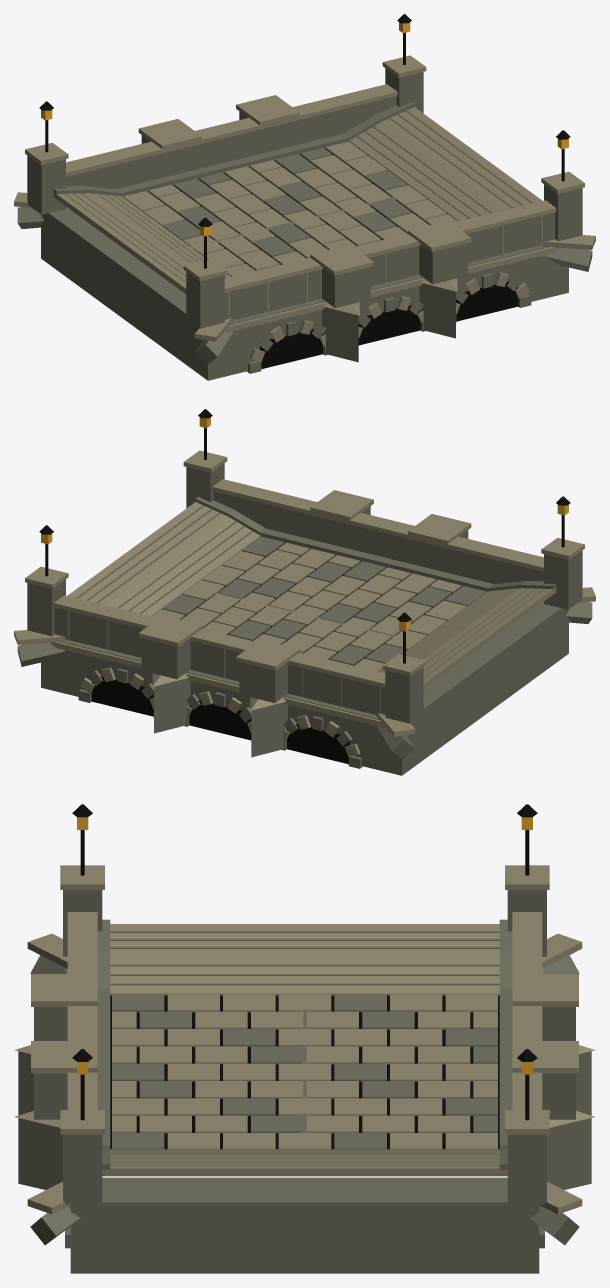
File: ponte-central-de-pedra-v01.glb
3 renders of one model, top to bottom at view 1: azimuth 30°, elevation 25°; view 2: azimuth 150°, elevation 25°; view 3: azimuth 270°, elevation 25°, orthographic. The views are drawn at different scales.
Parts seen in each view (by area): view 1: Ponte central de pedra; view 2: Ponte central de pedra; view 3: Ponte central de pedra.
Part boxes in pixels (x1=…): Ponte central de pedra: x1=14, y1=14, x2=595, y2=380; Ponte central de pedra: x1=14, y1=409, x2=595, y2=775; Ponte central de pedra: x1=14, y1=804, x2=595, y2=1273.
Size of the model in its own units: 12.34 by 4.72 by 11.06.
